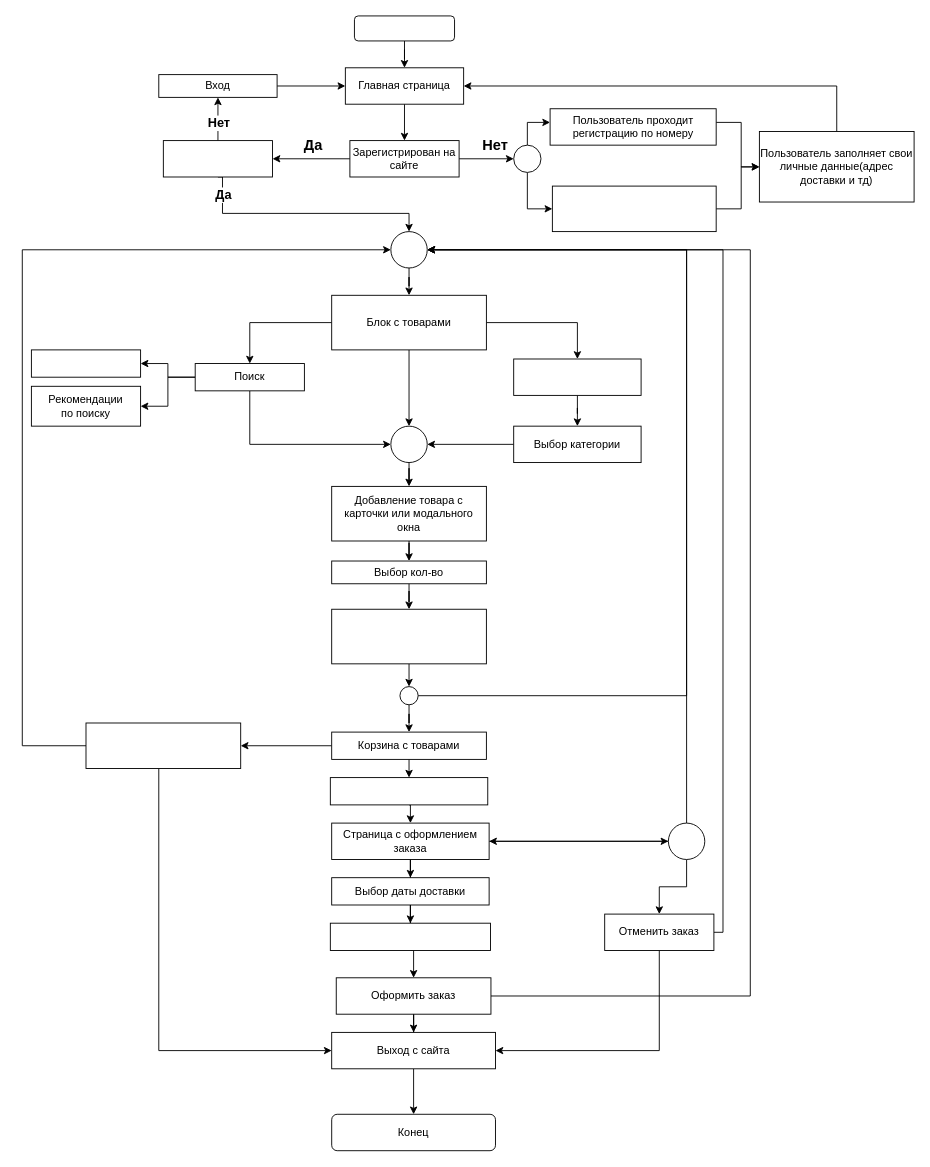
The diagram is 930 pixels wide and 1167 high, and some of its shapes have lost their labels. Each missing label, with the centre of its shape:
"Авторизован" belongs at [217,158].
"Каталог" belongs at [577,376].
"Начало" belongs at [404,28].
"Очистить корзину" belongs at [163,745].
"Перейти на страницу оформления заказа" belongs at [408,791].
"Пользователь нажимает на товар и ему предлогается пройти регистрацию" belongs at [633,208].
"Прошлые запросы" belongs at [85,363].
"Способ оплаты" belongs at [409,936].
"Товар добавлен в корзину (резерв. на 1 час)" belongs at [408,636].
